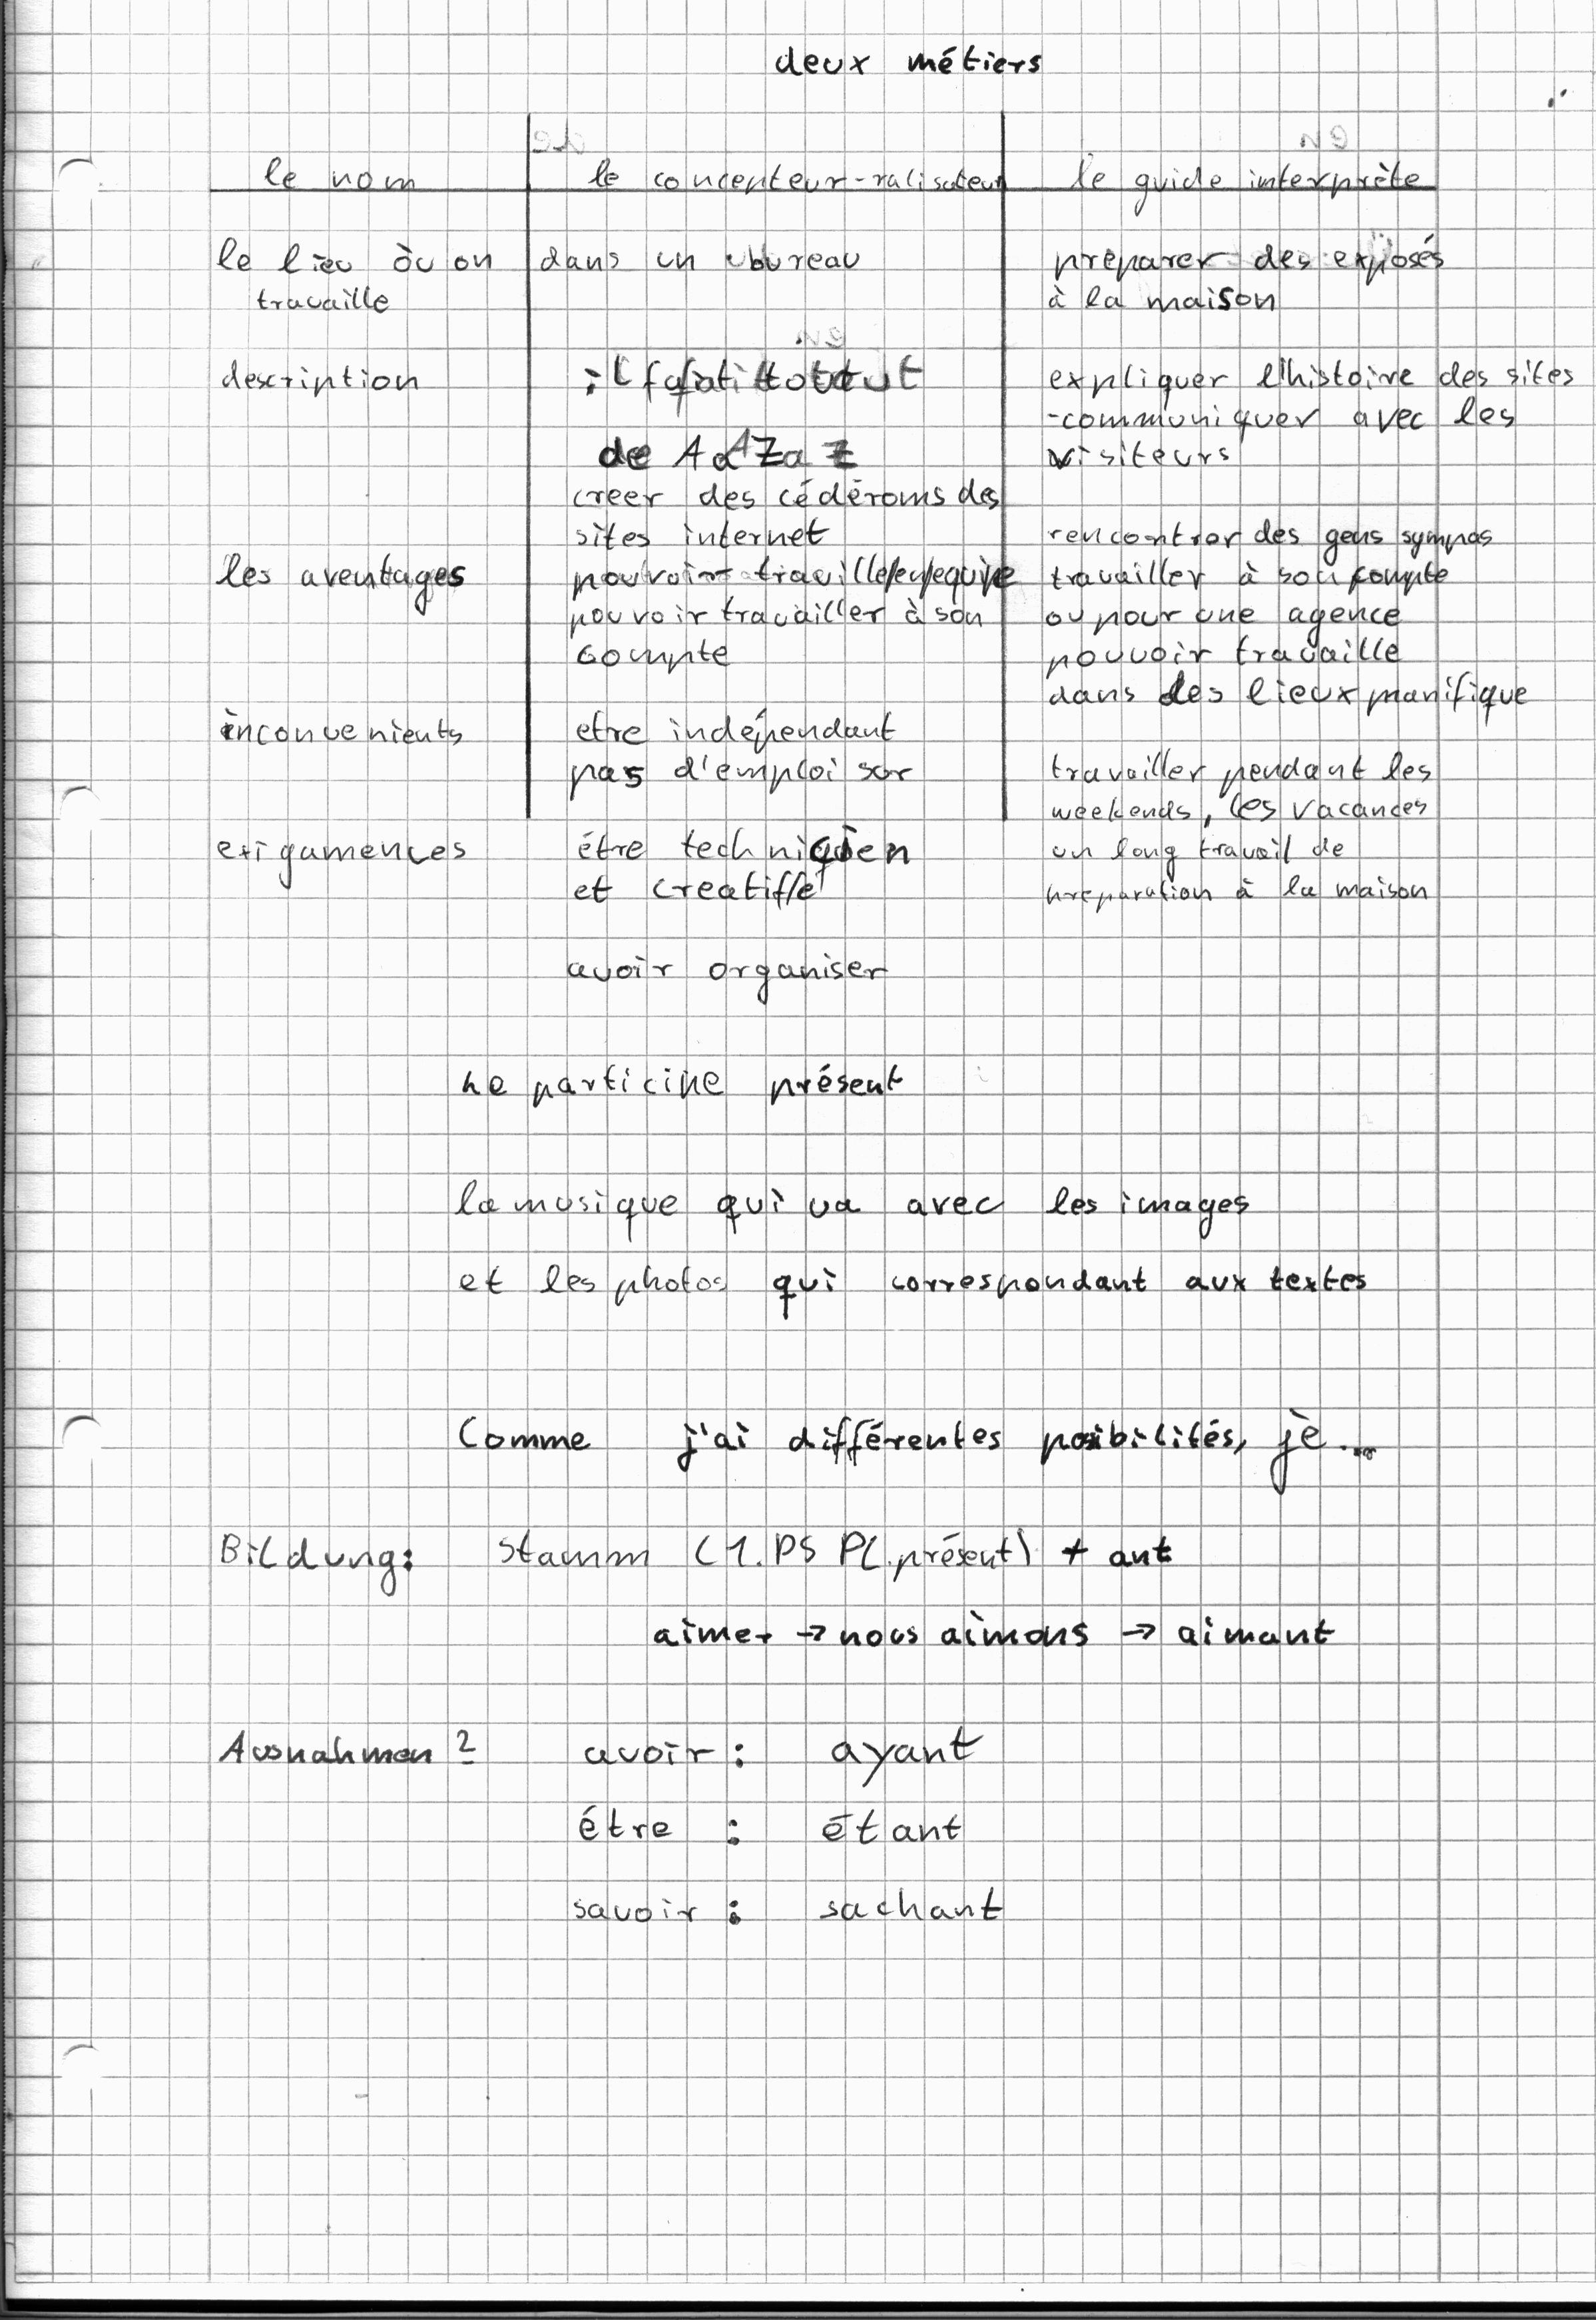word: (443, 1168, 1379, 1328), (1039, 502, 1539, 732), (441, 1389, 1397, 1508), (555, 473, 1019, 683), (1037, 340, 1581, 492), (1033, 735, 1441, 914), (557, 339, 939, 488), (483, 1512, 1193, 1586), (804, 1698, 1019, 1943), (433, 1027, 917, 1127), (559, 1711, 772, 1935), (647, 1599, 1354, 1663), (553, 694, 927, 808), (1039, 227, 1456, 328), (554, 815, 941, 920), (553, 931, 908, 1021), (197, 220, 510, 321), (740, 15, 1067, 103), (202, 531, 492, 627), (204, 812, 487, 910), (206, 1703, 493, 1787), (204, 1512, 445, 1608), (202, 688, 481, 770), (531, 228, 868, 286), (209, 343, 435, 420)
